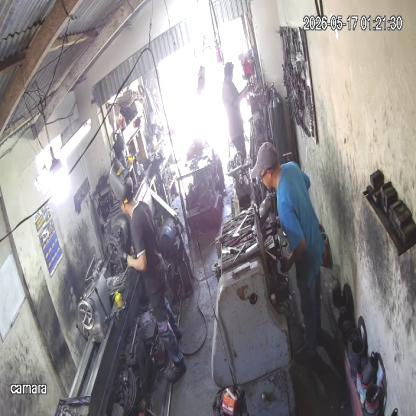lentes: (258, 166, 269, 180)
